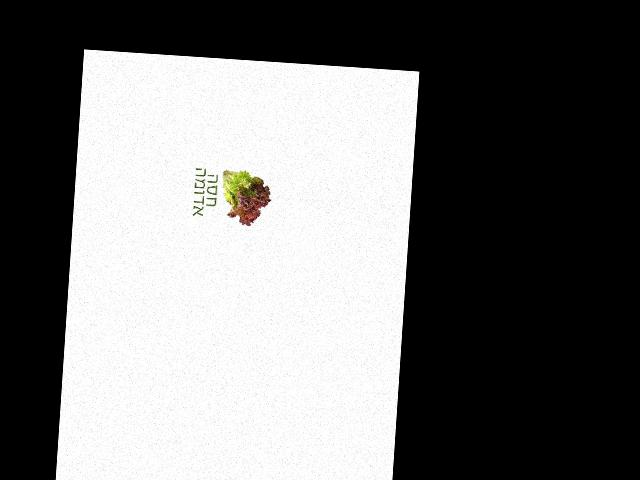lettuce: (217, 163, 273, 228)
